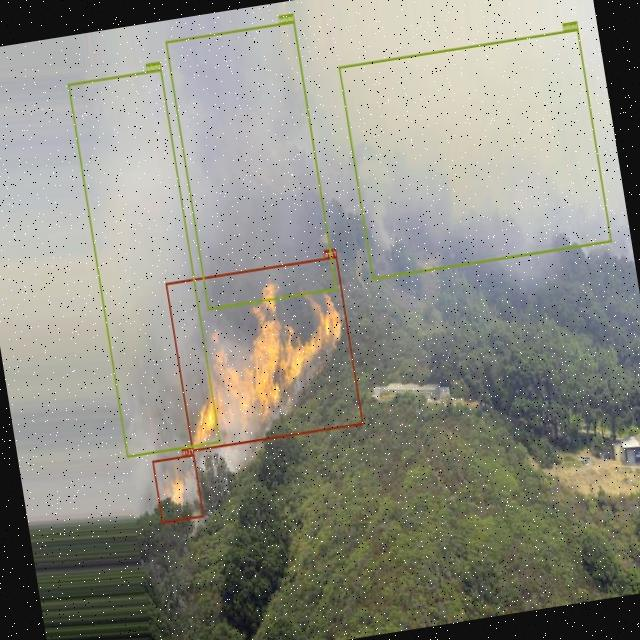fire: (166, 256, 364, 451), (153, 454, 205, 523)
smoke: (338, 28, 612, 280), (68, 69, 221, 458), (165, 21, 338, 310)
